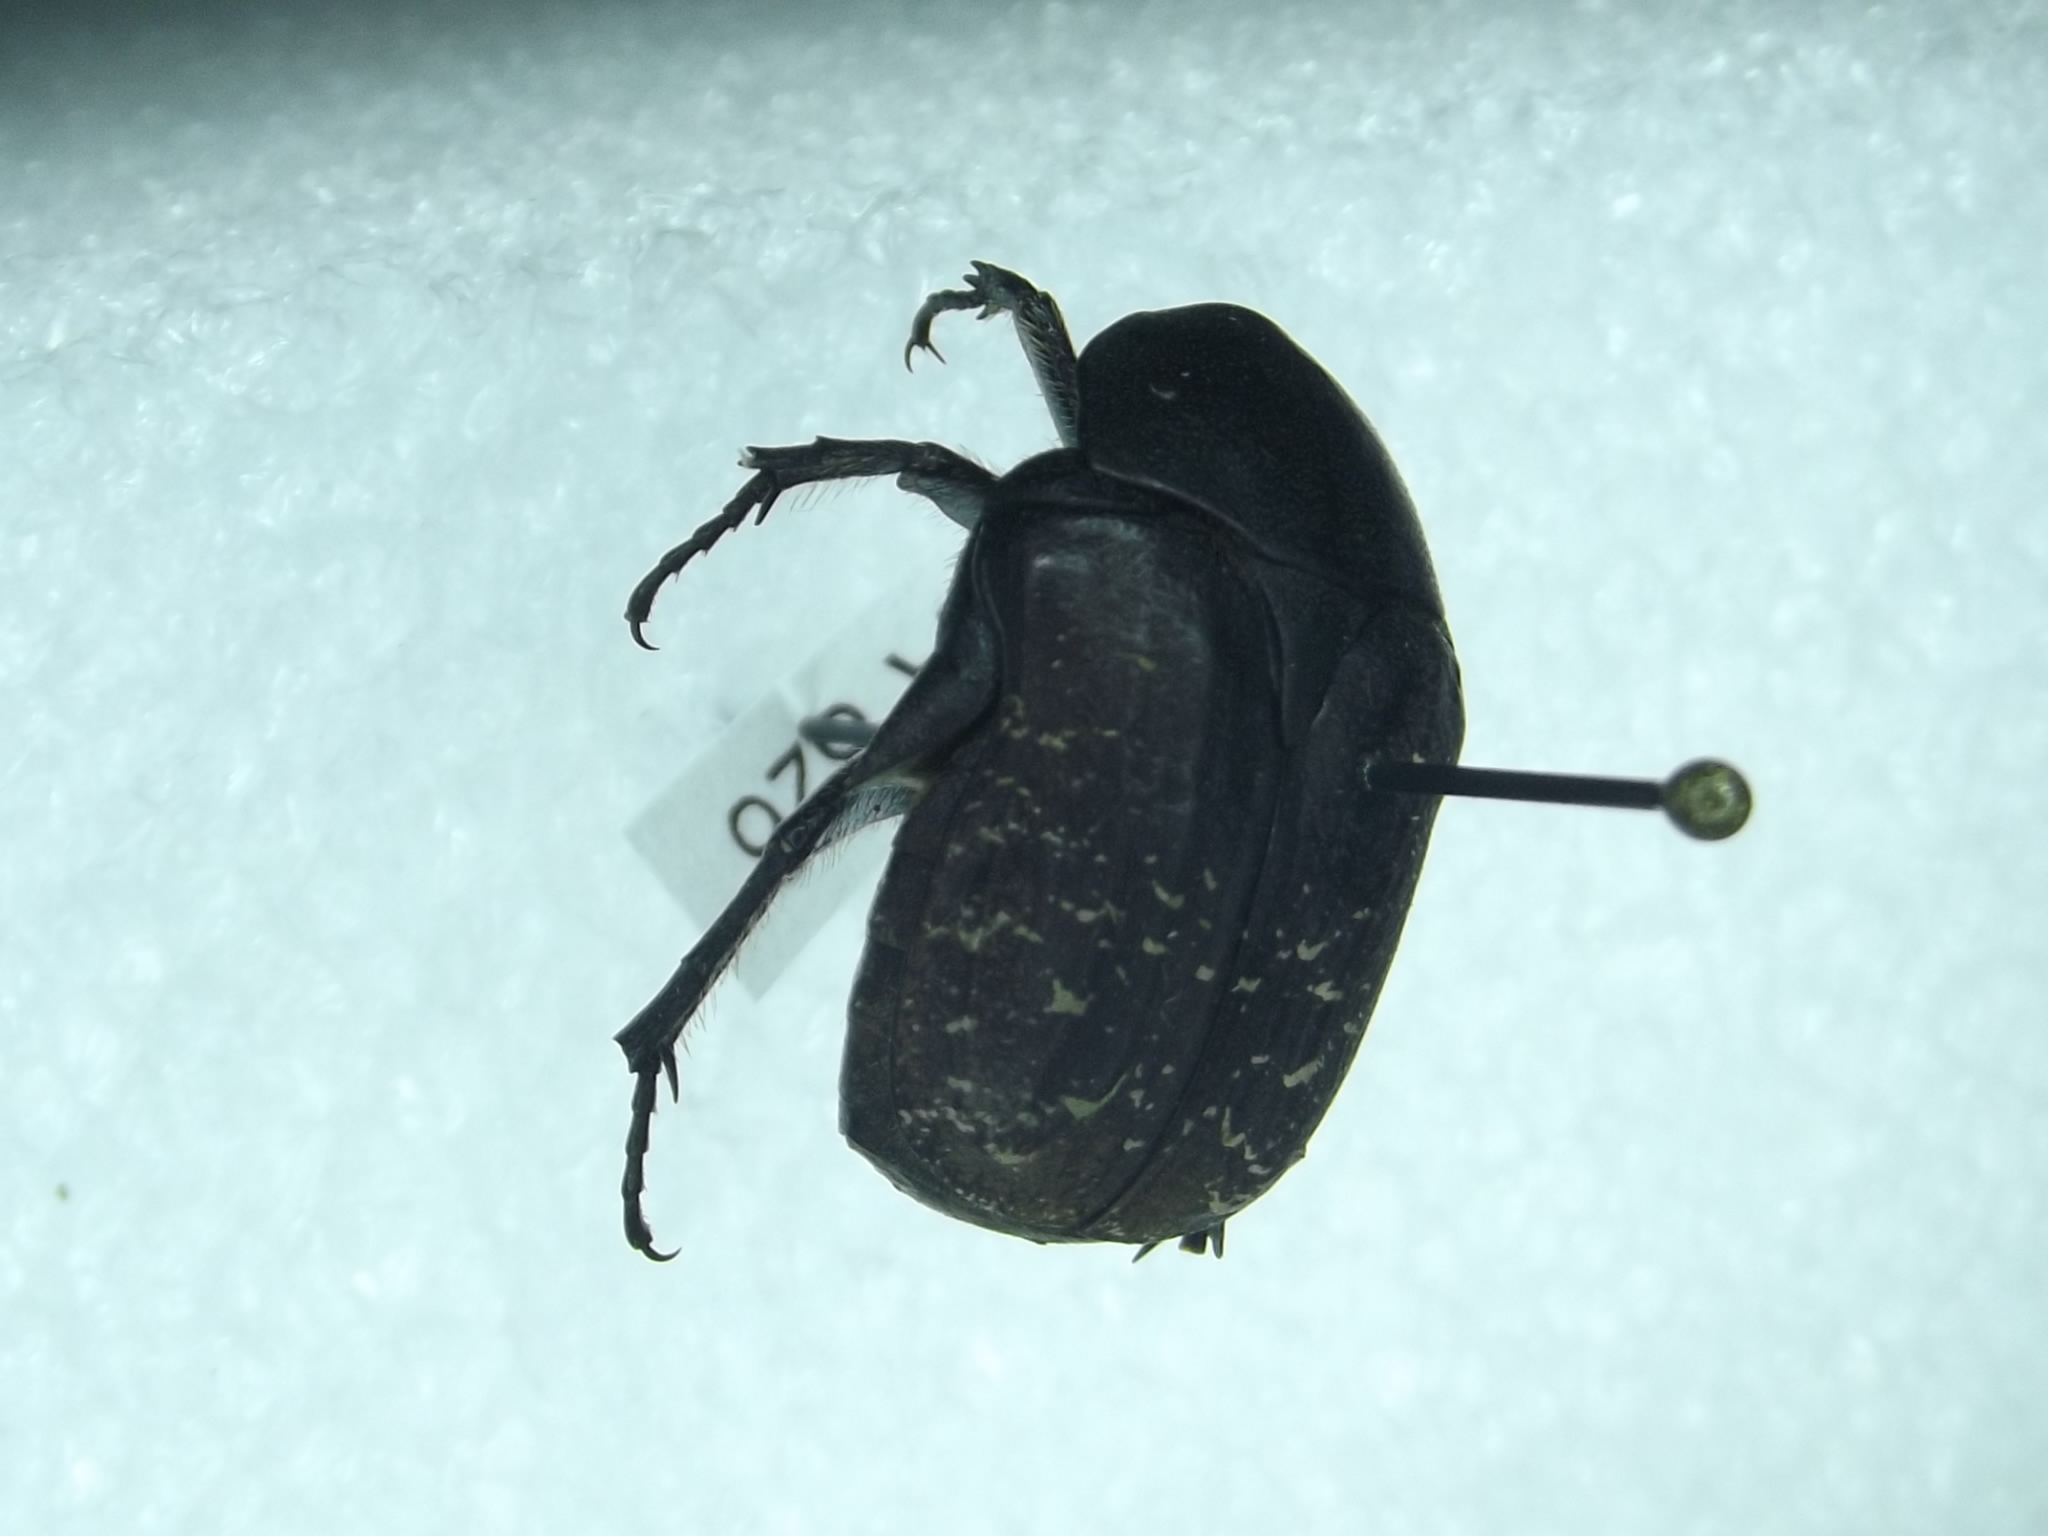Protaetia_oblonga: (610, 252, 1474, 1342)
